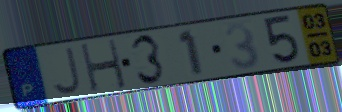1: (176, 29, 209, 78)
3: (128, 33, 168, 86), (224, 21, 261, 71)
5: (261, 12, 301, 66)
H: (78, 38, 130, 94)
J: (50, 46, 84, 97)
